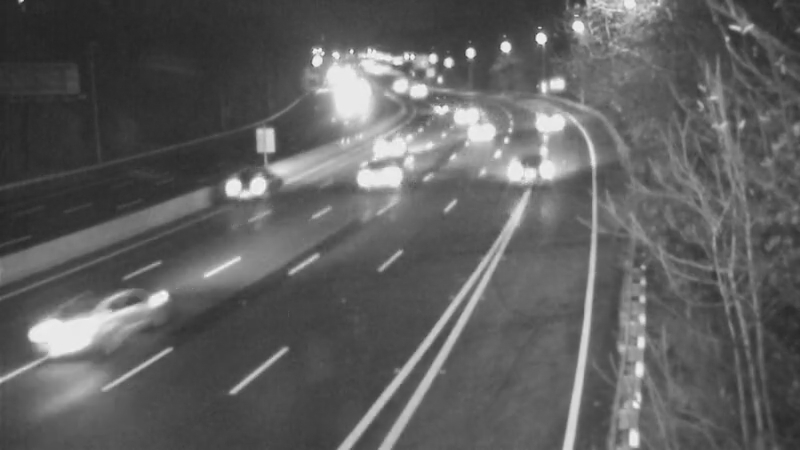vehicle: (12, 281, 122, 391), (491, 129, 571, 209), (335, 136, 415, 216), (206, 145, 286, 225), (376, 63, 426, 113), (395, 66, 445, 116), (413, 83, 463, 133), (440, 86, 490, 136), (524, 95, 574, 145), (457, 104, 507, 154), (364, 124, 414, 174), (322, 78, 372, 128)
